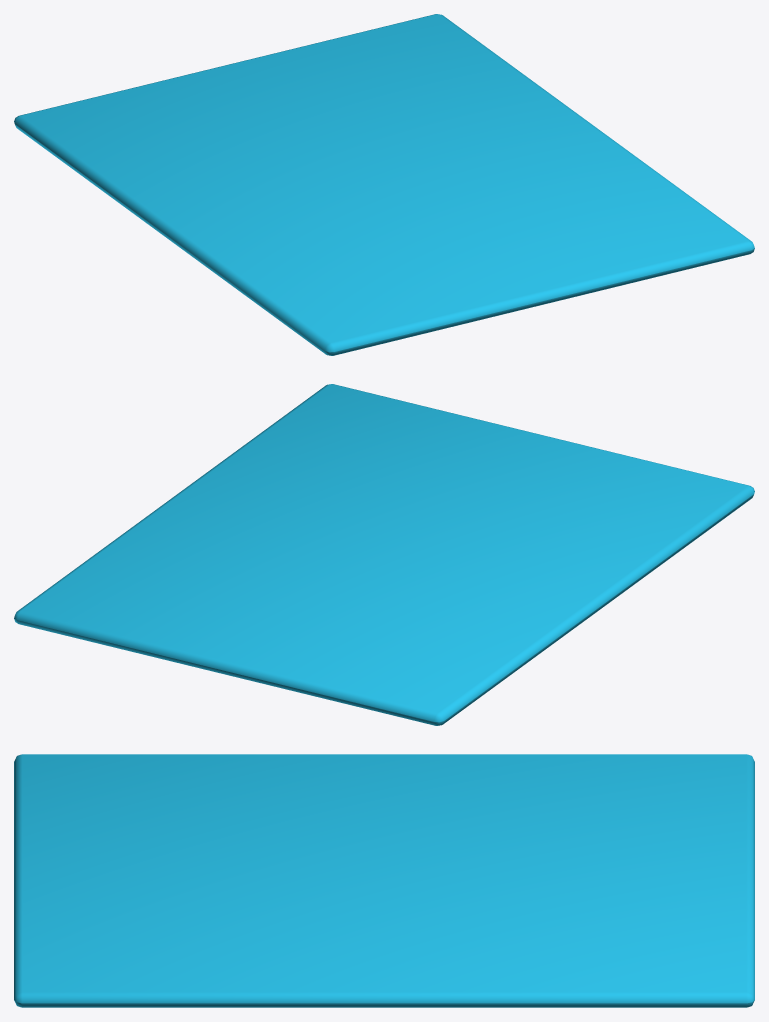
Rendered from GEO_HATCHBACK_Hood.glb.
3 views of the same model, one above another, from view 1: azimuth 30°, elevation 25°; view 2: azimuth 150°, elevation 25°; view 3: azimuth 270°, elevation 25° (orthographic). The views are drawn at different scales.
Visible parts, largest first — view 1: GEO_HATCHBACK_Hood; view 2: GEO_HATCHBACK_Hood; view 3: GEO_HATCHBACK_Hood.
Part boxes in pixels (x1=…): GEO_HATCHBACK_Hood: x1=14, y1=14, x2=754, y2=355; GEO_HATCHBACK_Hood: x1=14, y1=384, x2=754, y2=725; GEO_HATCHBACK_Hood: x1=14, y1=754, x2=754, y2=1007.
Bounding box in the file's own units: 1.37 × 0.04 × 1.75.
